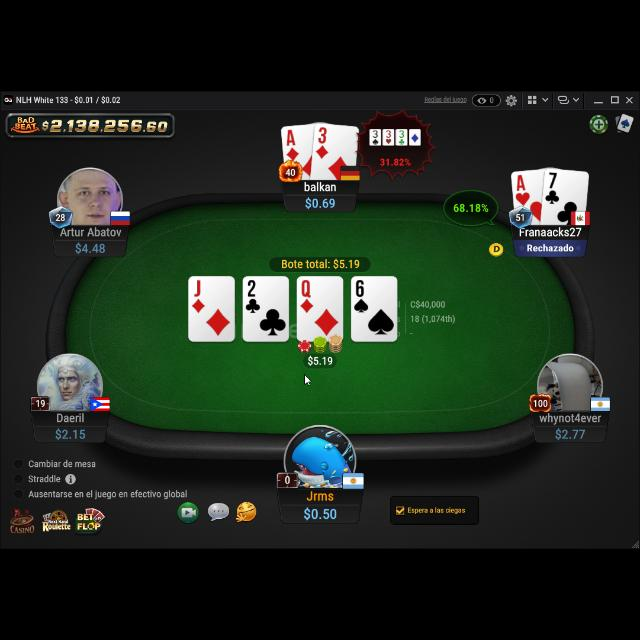2c: (244, 278, 264, 316), (244, 279, 262, 315)
3d: (314, 125, 330, 162)
6s: (352, 278, 370, 314)
7c: (542, 170, 562, 207)
Ad: (285, 127, 301, 161)
Ah: (514, 172, 532, 208)
Jd: (191, 278, 207, 316)
Qd: (298, 277, 316, 315)
dealer: (487, 240, 505, 256)
pot_text: (281, 257, 361, 271)
stack_text: (526, 240, 574, 254), (302, 505, 338, 521), (74, 241, 108, 255), (304, 196, 336, 210), (554, 426, 586, 440), (54, 428, 88, 440)
